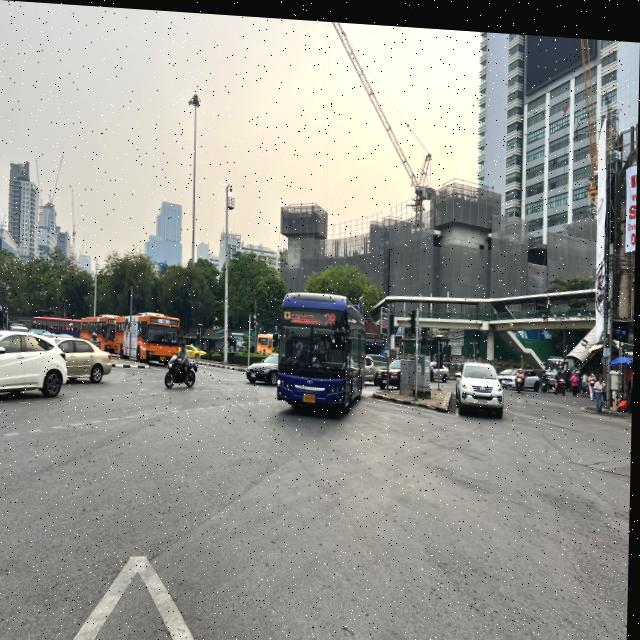BMTA-bus: (116, 307, 182, 364), (81, 311, 117, 353), (31, 312, 83, 337)
Bus Line Number: (325, 306, 339, 325), (160, 316, 171, 322)
Bus Side Number: (333, 373, 347, 380)
Destination Sign: (291, 306, 324, 322), (169, 336, 179, 340)
TSB-Bus: (275, 283, 369, 416)
